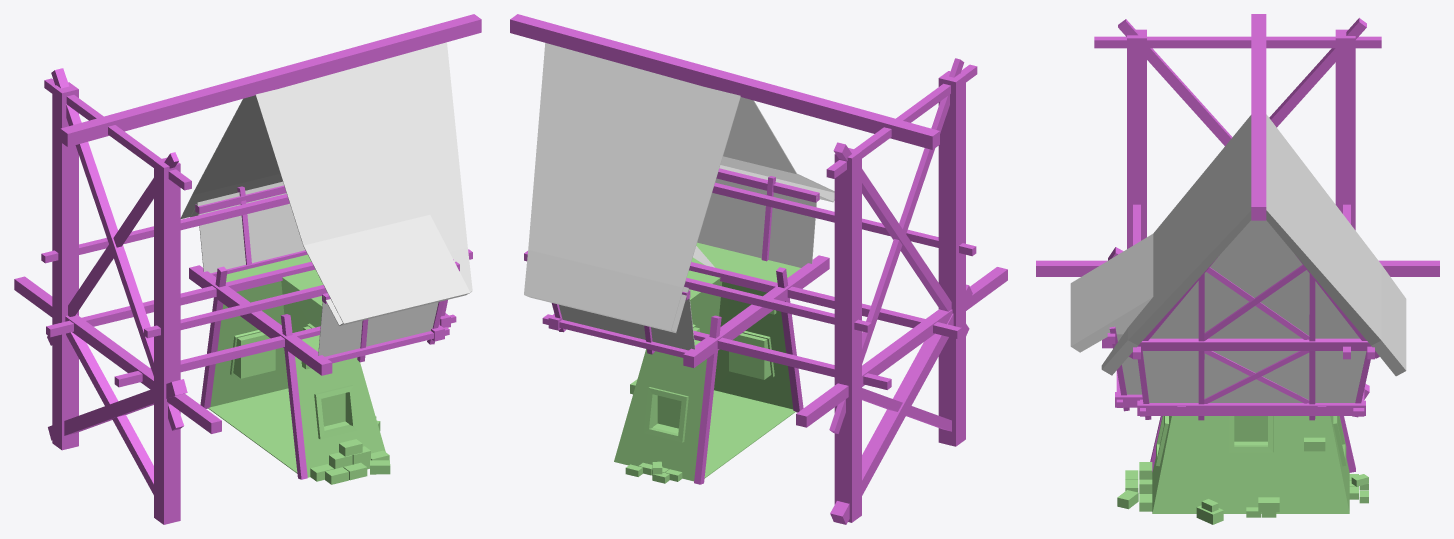
The model's file is ChantierLow.fbx.
3 views of the same model, side by side, from view 1: azimuth 30°, elevation 25°; view 2: azimuth 150°, elevation 25°; view 3: azimuth 270°, elevation 25° (orthographic). The views are drawn at different scales.
Visible parts, largest first — view 1: MaisonLow.002; view 2: MaisonLow.002; view 3: MaisonLow.002.
Part boxes in pixels (box(x1,y1,x2,y2)): MaisonLow.002: box(14, 14, 481, 524); MaisonLow.002: box(510, 14, 1007, 524); MaisonLow.002: box(1036, 14, 1439, 524).
Size of the model in its own units: 1765 by 1513 by 1455.
